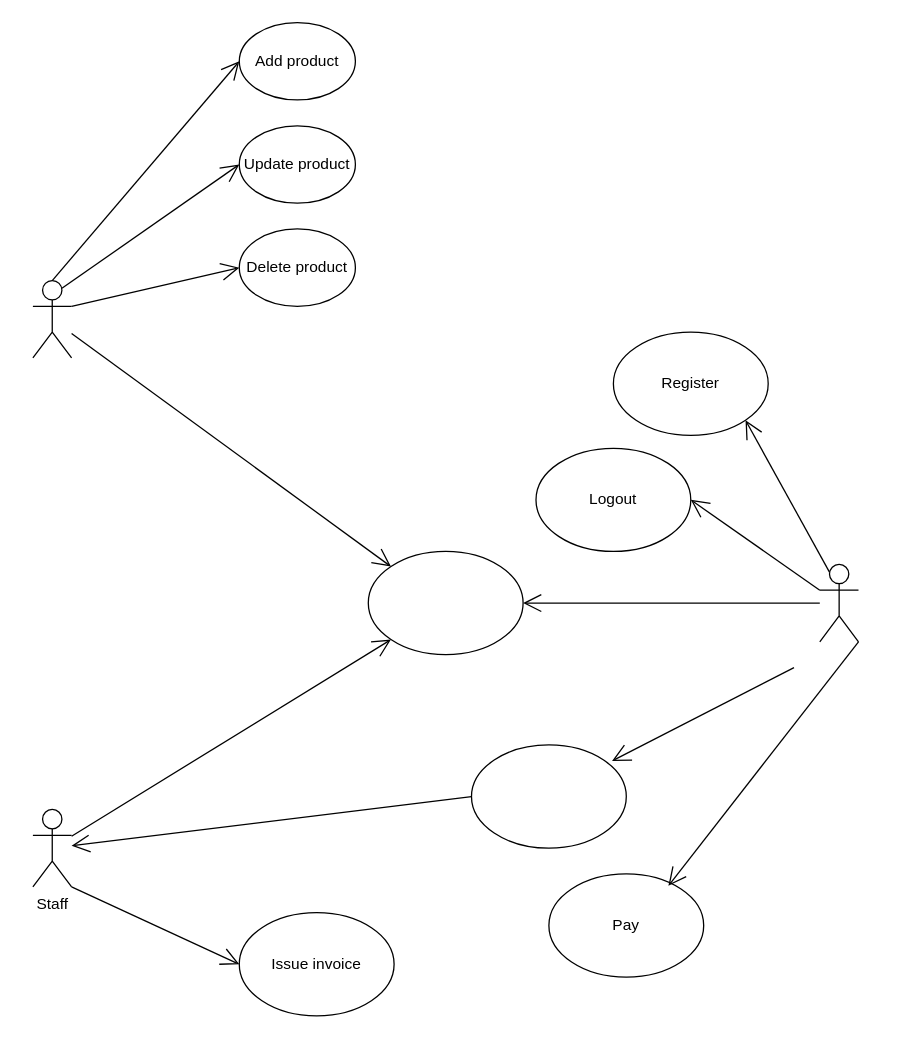
Image size: 899x1038. Some labels were removed from this diagram. The shapes that lost their labels are listed below. From the top down, each one's centre as x and y in pixels, then its label:
At (x=52, y=318): "Manager".
At (x=445, y=602): "Login".
At (x=838, y=602): "Customer".
At (x=548, y=796): "Order".
